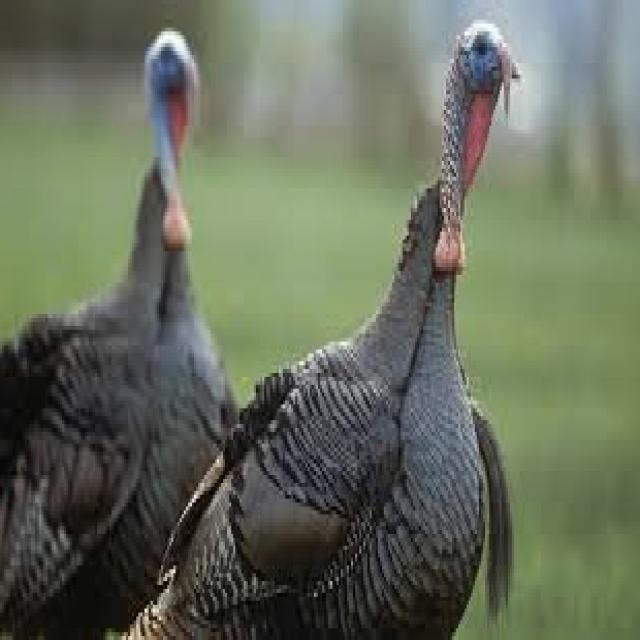turkey: (126, 20, 520, 636), (2, 27, 239, 636)
